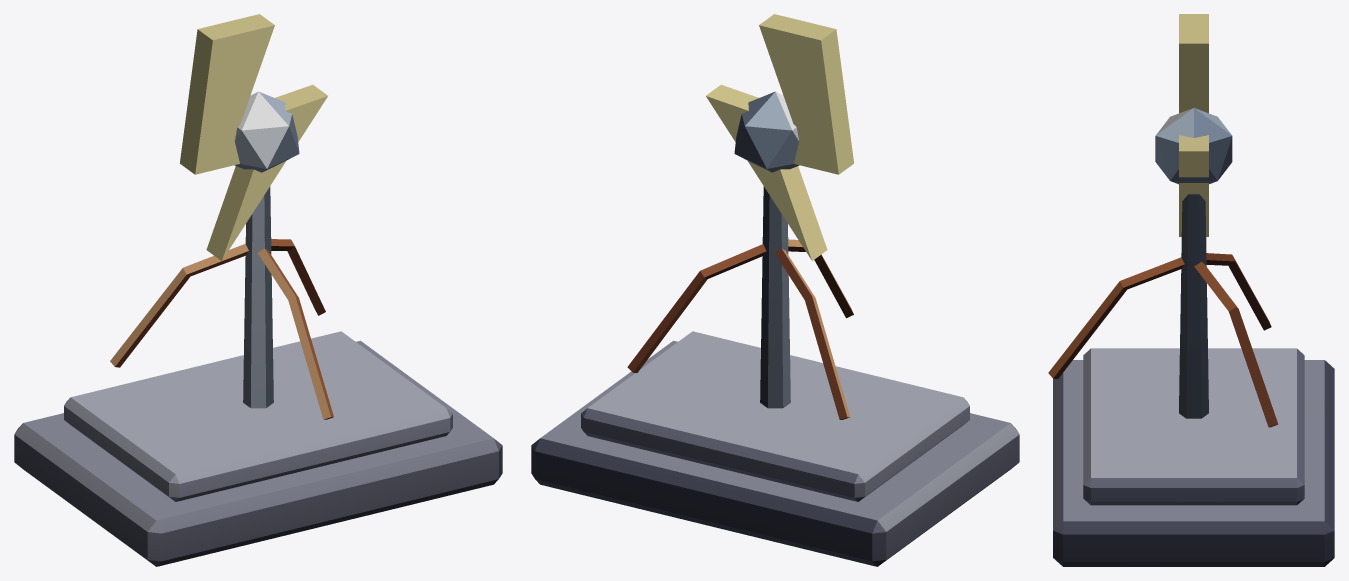
File: gym_top_electric.glb
The picture shows the model from 3 angles, left to right: view 1: azimuth 30°, elevation 25°; view 2: azimuth 150°, elevation 25°; view 3: azimuth 270°, elevation 25°; orthographic projection.
Parts seen in each view (by area): view 1: gym_top_electric; view 2: gym_top_electric; view 3: gym_top_electric.
Part boxes in pixels (box(x1,y1,x2,y2)): gym_top_electric: box(14, 14, 502, 566); gym_top_electric: box(531, 14, 1019, 566); gym_top_electric: box(1048, 14, 1334, 566).
Size of the model in its own units: 0.8 by 0.98 by 0.5698.
